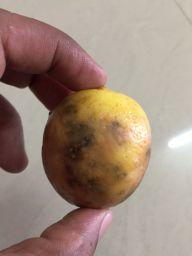lemon: (37, 84, 160, 211)
